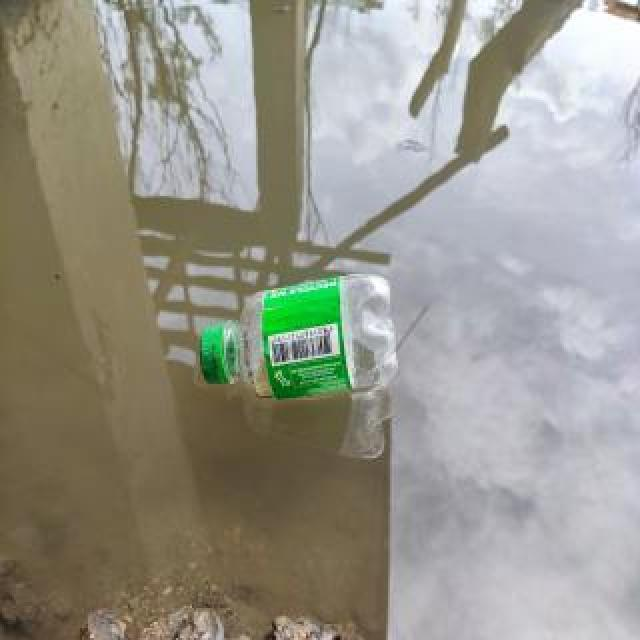bottle: (196, 267, 402, 409)
